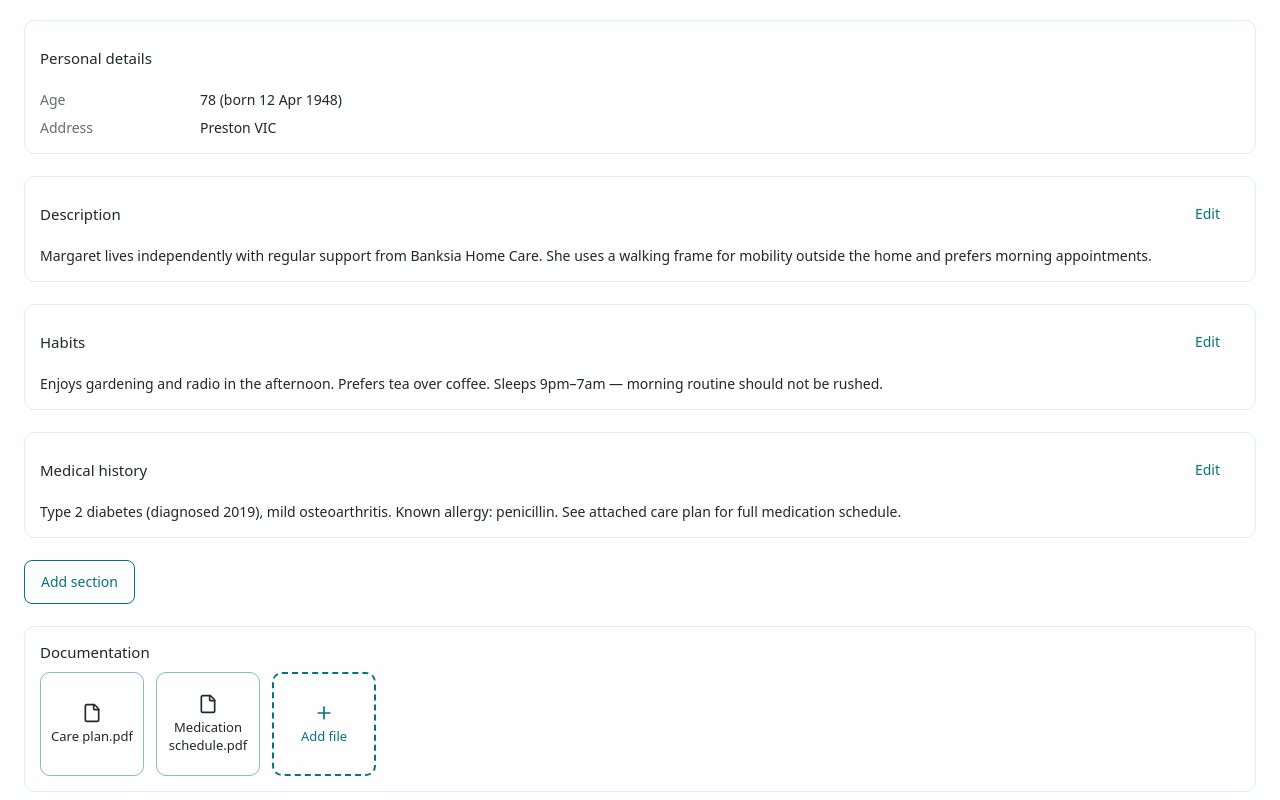
Test: [FAM-UI-04] inline edit (PROPOSED interaction, PRD Scope) › [FAM-UI-04][PRD] each card edits on its own: opening one leaves the others' text and their Edit buttons alone
This screenshot has width=1280, height=800.
Click the button with aria-label "Edit Habits" at [1207, 342], box [1175,320,1240,364]
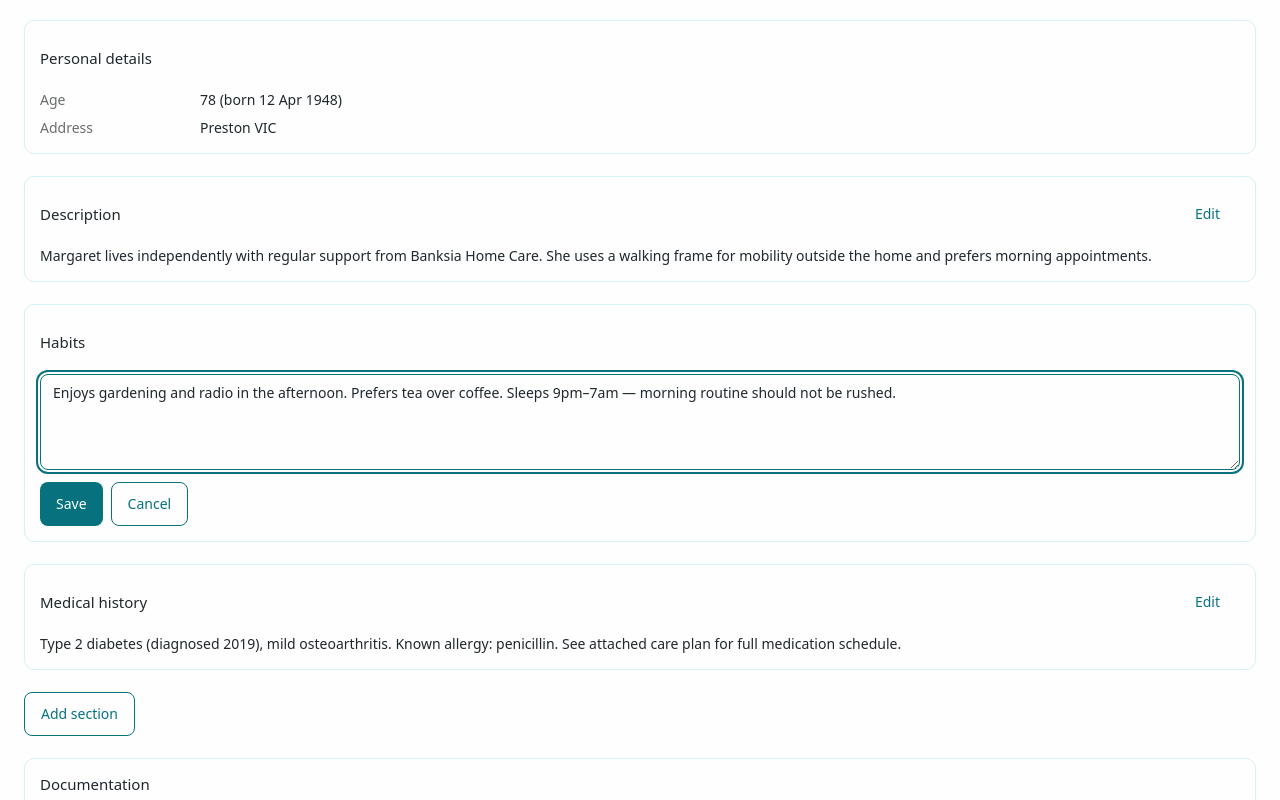
Type " Unsaved draft." into the text box at [640, 422], box [40,374,1240,470]
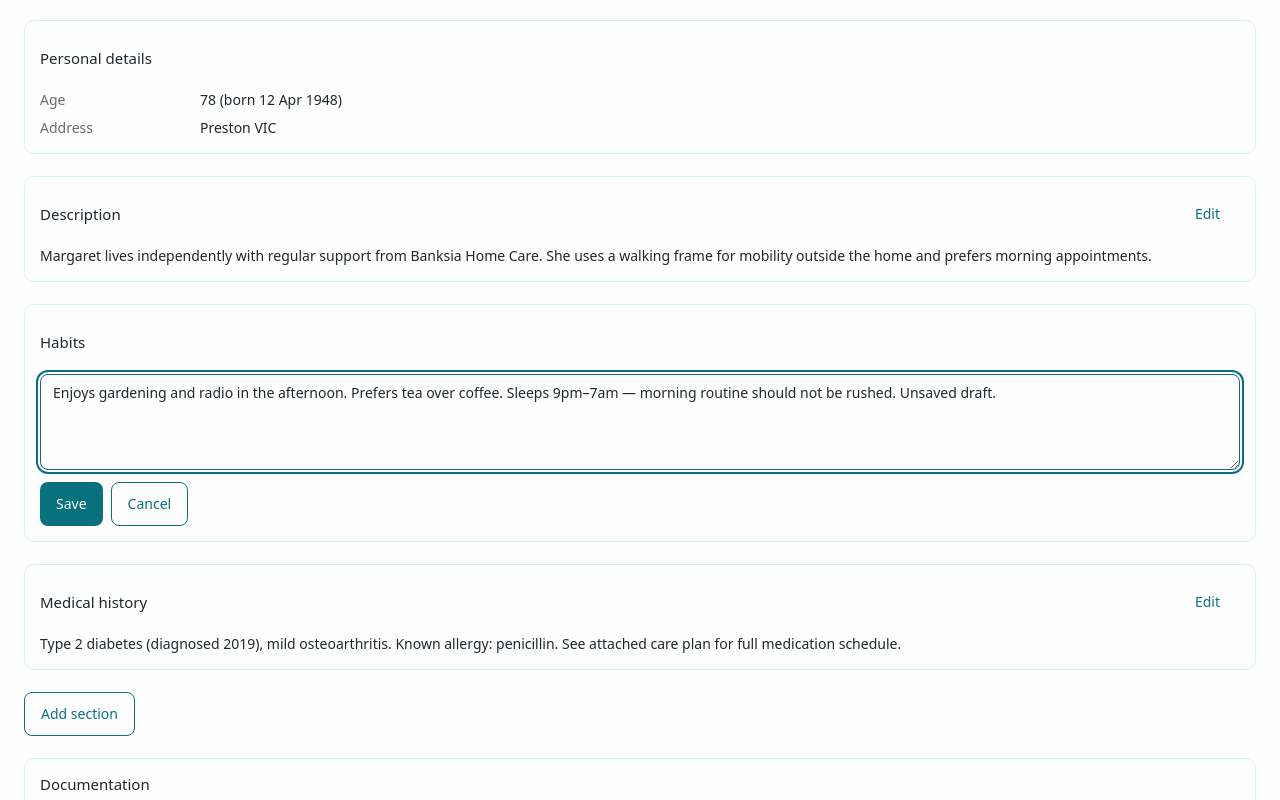
Click the button with aria-label "Edit Medical history" at [1207, 602], box [1175,580,1240,624]
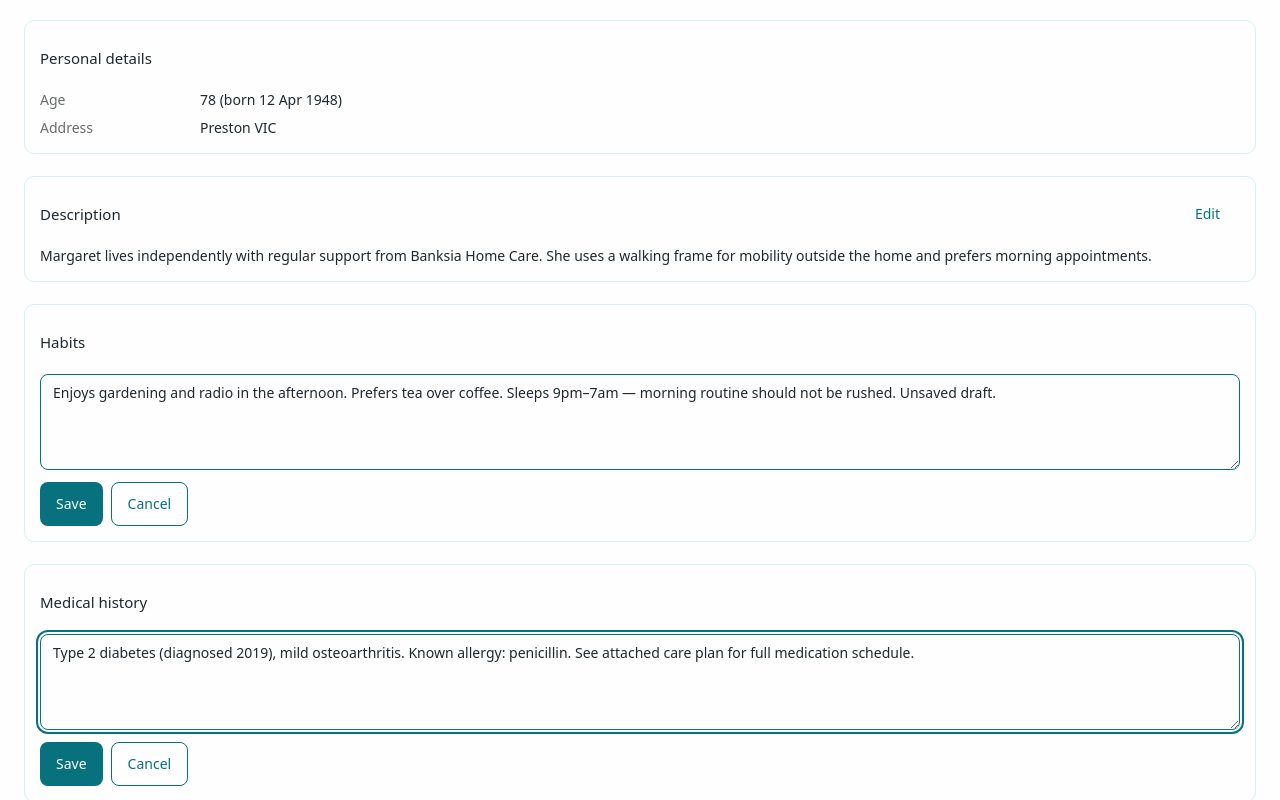
Expected: the text "Margaret lives independently with regular support from Banksia Home Care. She uses a walking frame for mobility outside " is shown, [40,246,1152,265]
Result: the text box below "Medical history" holds "Type 2 diabetes (diagnosed 2019), mild osteoarthritis. Known allergy: penicillin. See attached care plan for full medication schedule." at [40,634,1240,730]
